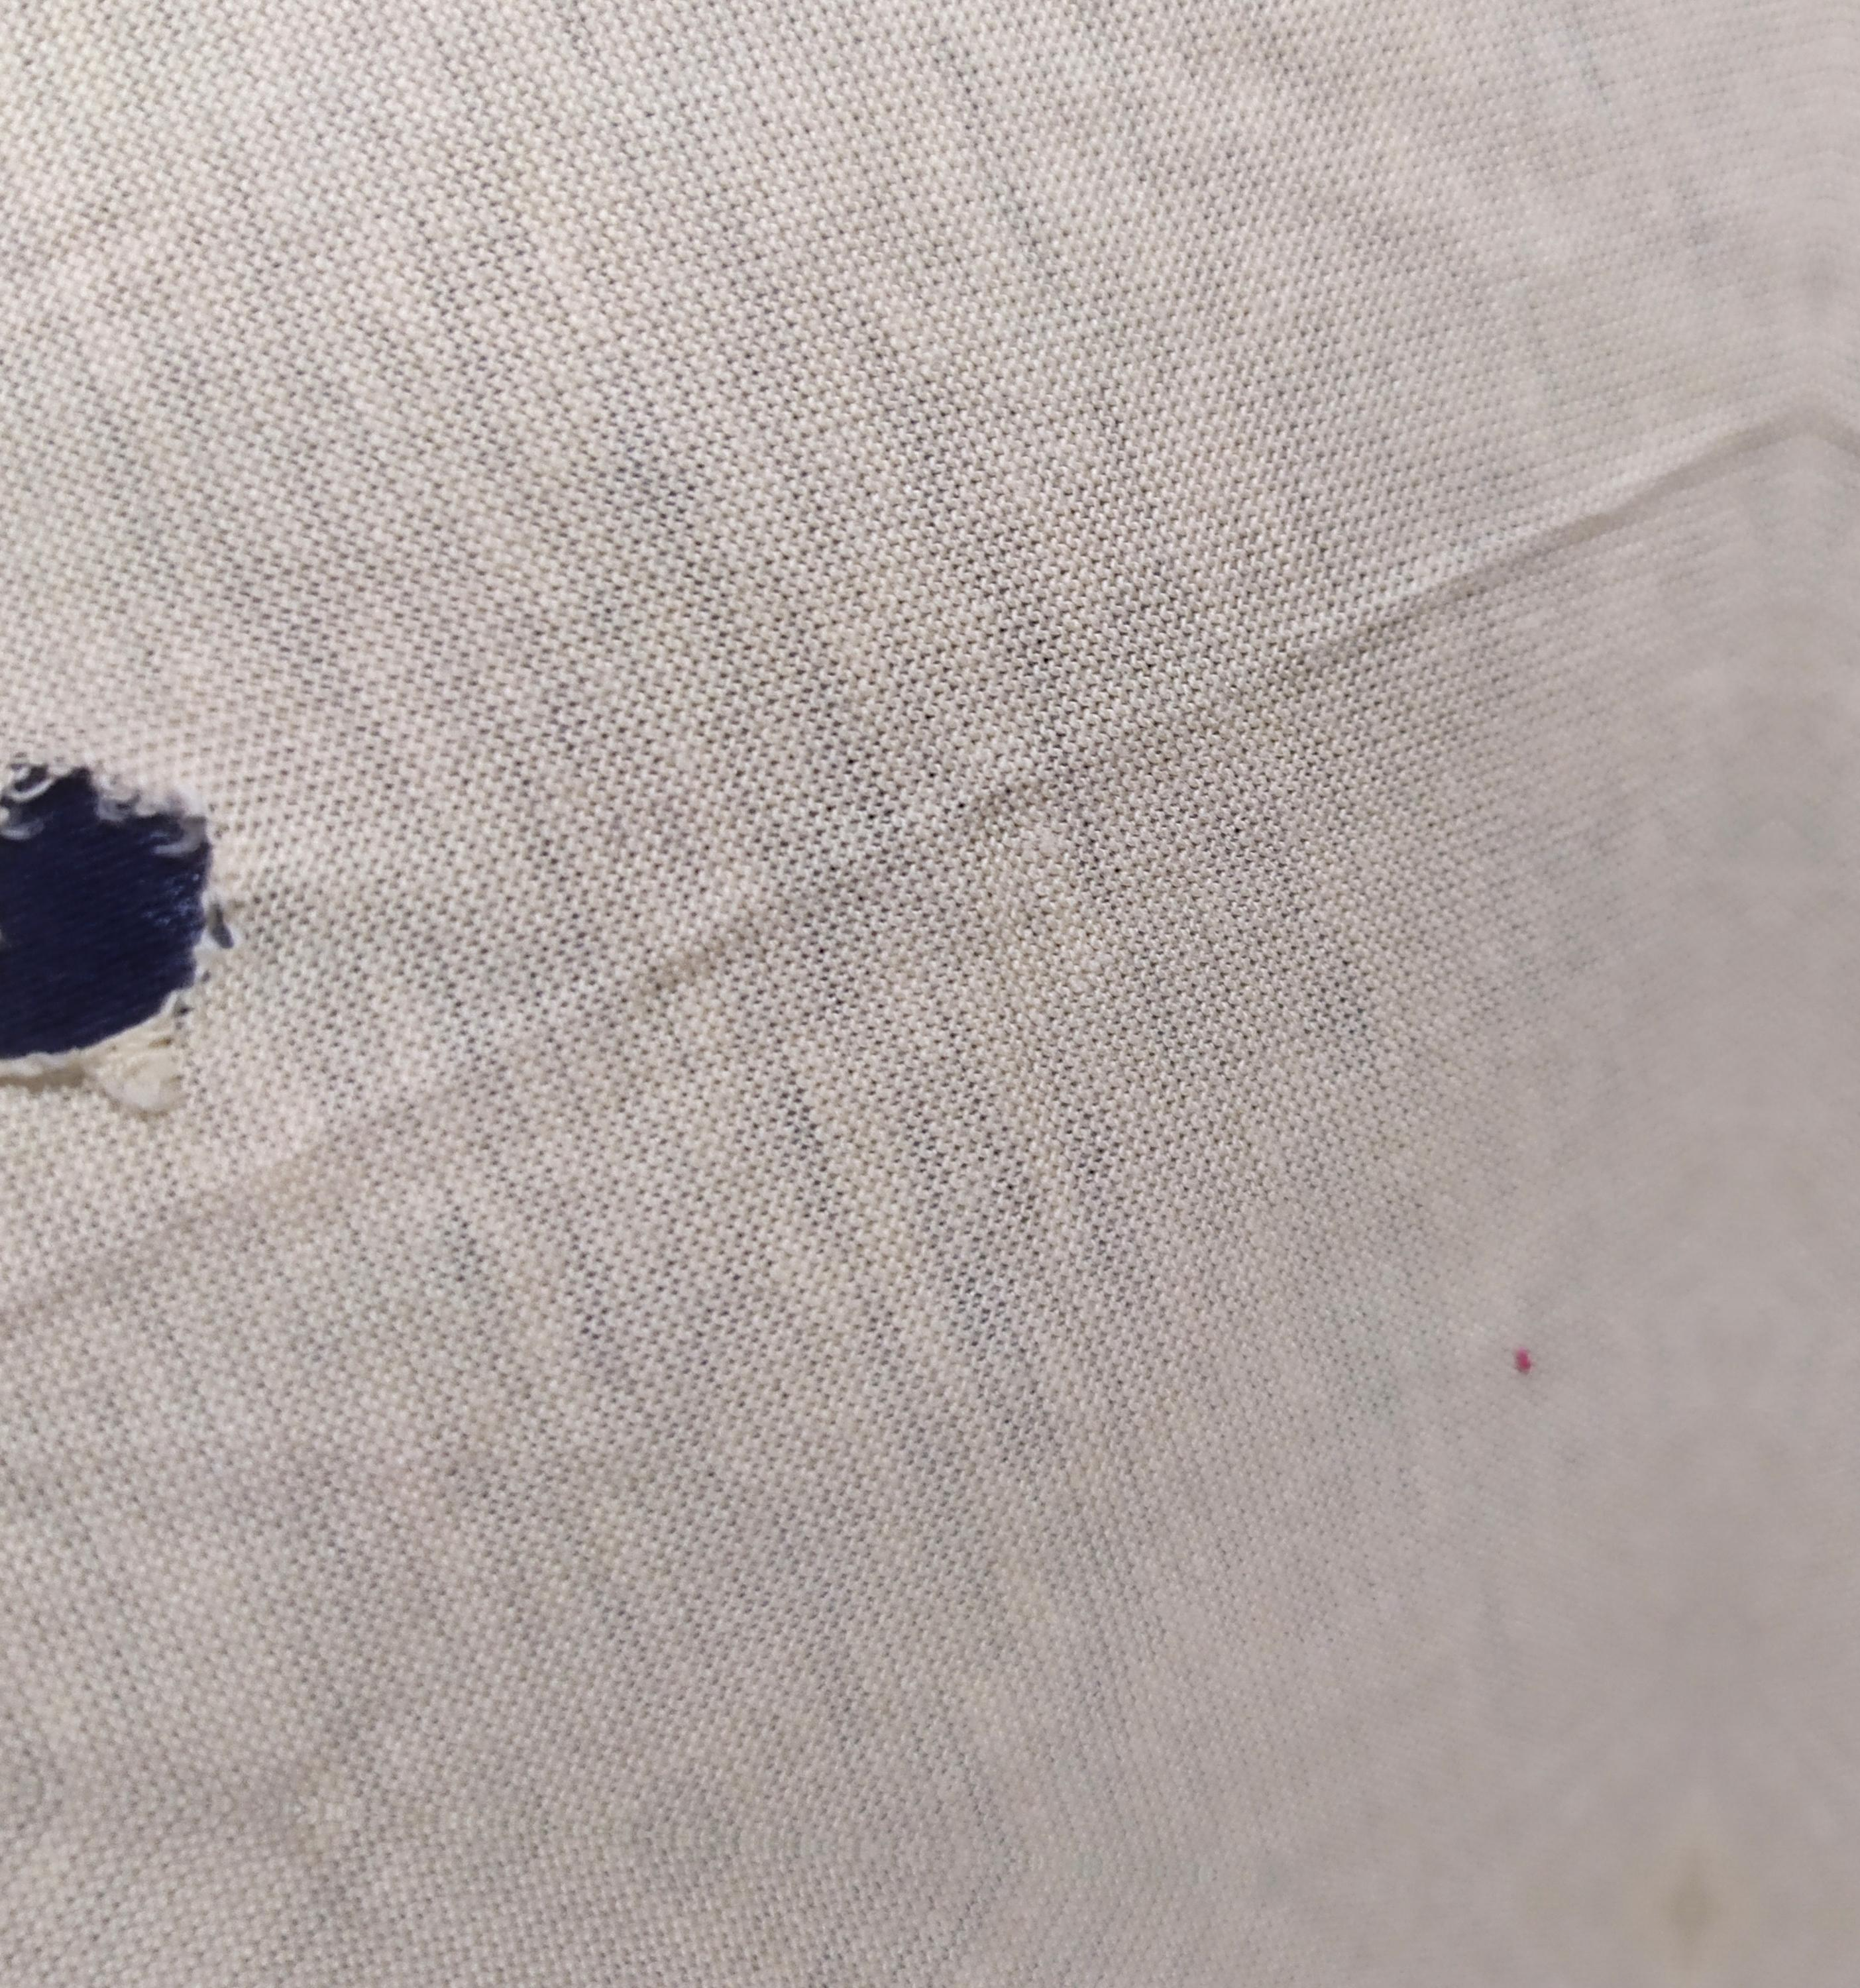hole: (10, 720, 229, 1110)
